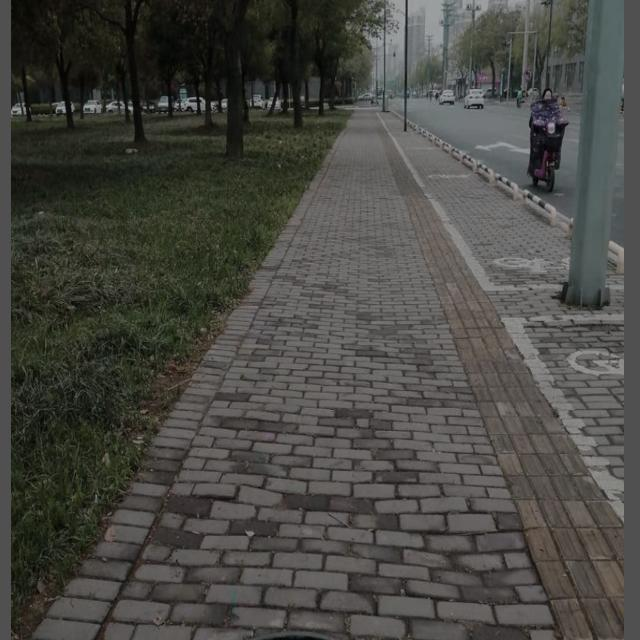lose: (159, 626, 415, 640)
